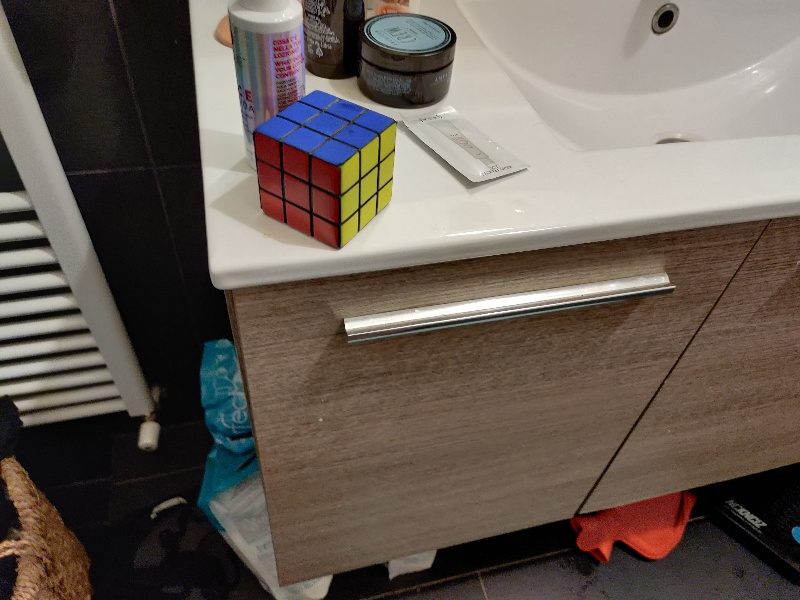rubik: (253, 89, 396, 250)
